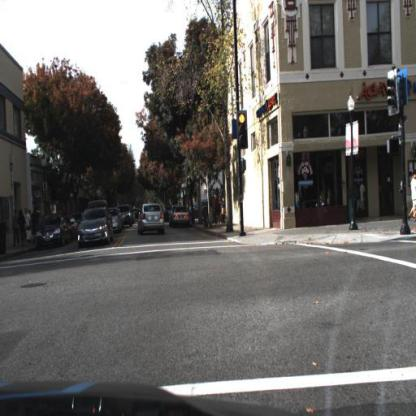car: (78, 208, 113, 247), (138, 199, 167, 238), (38, 215, 70, 249), (172, 207, 192, 229), (112, 208, 125, 235), (124, 204, 136, 231)
pedestrian: (406, 168, 416, 234), (31, 206, 41, 248), (34, 204, 42, 250), (11, 211, 20, 251), (19, 208, 27, 250), (13, 209, 21, 248), (214, 191, 219, 225), (25, 227, 32, 249)
trafficLight: (238, 112, 248, 152)
